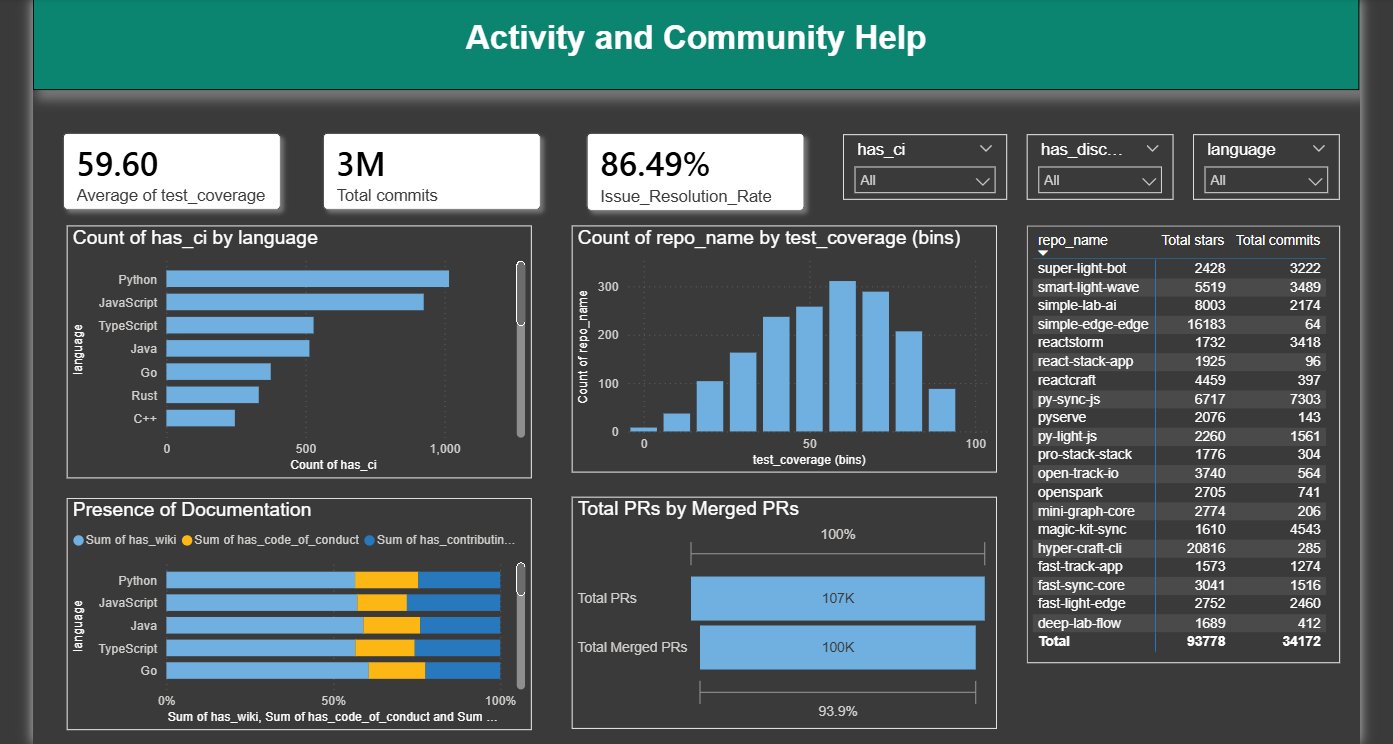

What the dashboard file says about the page in this screenshot:
{"tool":"powerbi","page":{"name":"Activity and Community Help","canvas":[1280,720],"ordinal":1},"visuals":[{"type":"textbox","box":[0,0,1280.3,89.2],"z":0},{"type":"cardVisual","fields":{"Data":["Avg(github_repos.test_coverage)"]},"box":[0,101.4,268.6,132.9],"z":1000},{"type":"cardVisual","fields":{"Data":["github_repos.Issue_Resolution_Rate"]},"box":[506,101,268,133],"z":2000},{"type":"cardVisual","fields":{"Data":["Sum(github_repos.commits)"]},"box":[251.4,101.4,268.6,132.9],"z":3000},{"type":"slicer","fields":{"Values":["github_repos.has_ci"]},"box":[782,131,158,63],"z":4000},{"type":"slicer","fields":{"Values":["github_repos.has_discussions"]},"box":[958.6,131.4,141.4,62.9],"z":5000},{"type":"slicer","fields":{"Values":["github_repos.language"]},"box":[1120,131.4,141.4,62.9],"z":6000},{"type":"barChart","fields":{"Y":["CountNonNull(github_repos.has_ci)"],"Category":["github_repos.language"]},"box":[32.5,220,448.8,243.8],"z":7000},{"type":"clusteredColumnChart","fields":{"Category":["github_repos.test_coverage (bins)"],"Y":["CountNonNull(github_repos.repo_name)"]},"box":[520,220,410,238.8],"z":8000},{"type":"hundredPercentStackedBarChart","title":"Presence of Documentation","fields":{"Category":["github_repos.language"],"Y":["Sum(github_repos.has_wiki)","Sum(github_repos.has_code_of_conduct)","Sum(github_repos.has_contributing_guide)"]},"box":[32.5,482.5,448.8,223.8],"z":9000},{"type":"funnel","title":"Total PRs by Merged PRs","fields":{"Y":["github_repos.Total PRs","Sum(github_repos.merged_pull_requests)"]},"box":[520,481.2,410,223.8],"z":10000},{"type":"pivotTable","title":"Top 20 Repositories based on stars ","fields":{"Rows":["github_repos.repo_name"],"Values":["Sum(github_repos.stars)","Sum(github_repos.commits)"]},"box":[958.8,220,302.5,422.5],"z":11000}]}

Visuals, with their boxes on the page's 1280x720 design canvas (x1, y1, x2, y2). These are canvas units, not pixel positions in the 1393x744 screenshot, which may show the page scaled, cropped or inside an application window:
textbox: Rect(0, 0, 1280, 89)
cardVisual - Avg(github_repos.test_coverage): Rect(0, 101, 269, 234)
cardVisual - github_repos.Issue_Resolution_Rate: Rect(506, 101, 774, 234)
cardVisual - Sum(github_repos.commits): Rect(251, 101, 520, 234)
slicer - github_repos.has_ci: Rect(782, 131, 940, 194)
slicer - github_repos.has_discussions: Rect(959, 131, 1100, 194)
slicer - github_repos.language: Rect(1120, 131, 1261, 194)
barChart - CountNonNull(github_repos.has_ci) x github_repos.language: Rect(32, 220, 481, 464)
clusteredColumnChart - github_repos.test_coverage (bins) x CountNonNull(github_repos.repo_name): Rect(520, 220, 930, 459)
"Presence of Documentation" hundredPercentStackedBarChart: Rect(32, 482, 481, 706)
"Total PRs by Merged PRs" funnel: Rect(520, 481, 930, 705)
"Top 20 Repositories based on stars " pivotTable: Rect(959, 220, 1261, 642)
